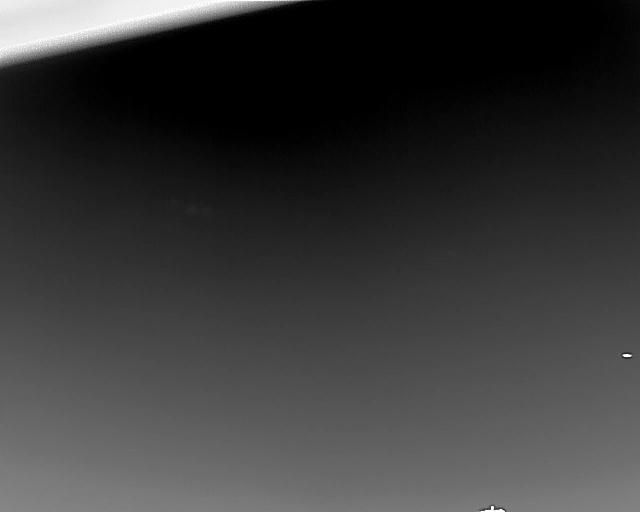fpv-drone: (621, 352, 633, 359)
